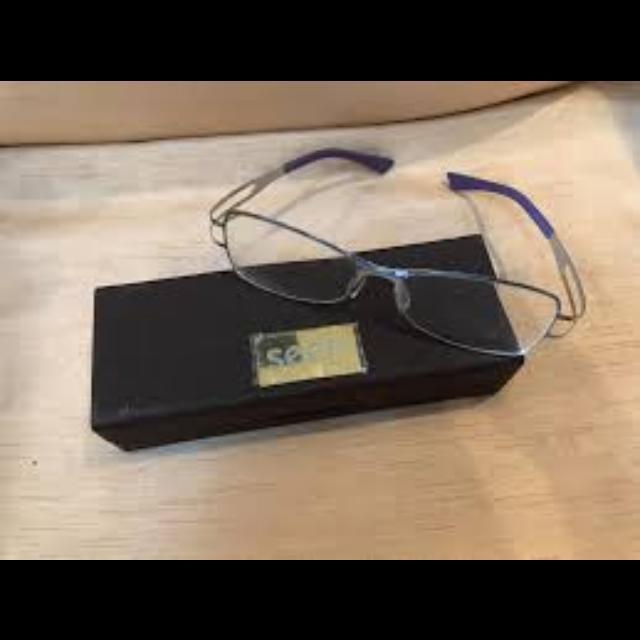glasses: (208, 147, 584, 356)
